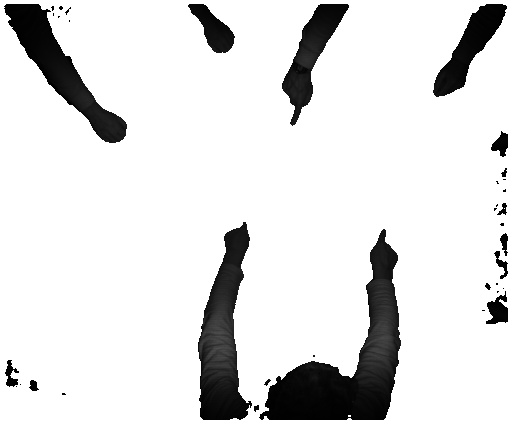fist: (432, 60, 469, 103), (206, 20, 239, 55), (93, 111, 127, 143)
hand: (280, 74, 315, 127), (220, 216, 255, 264), (368, 224, 399, 277)
